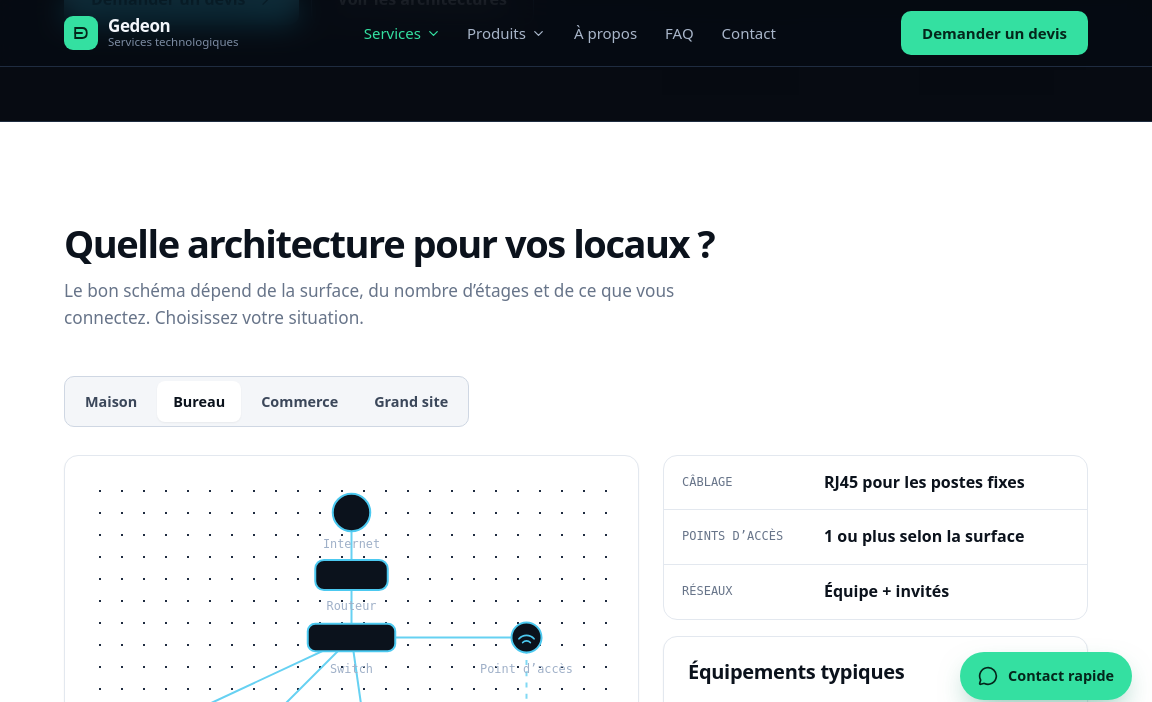
Test: dedicated service pages › network: switching the type of site updates the schema
(page scrolled)
Click the button "Commerce" at (300, 401), box left=245, top=381, right=354, bottom=422
(page scrolled)
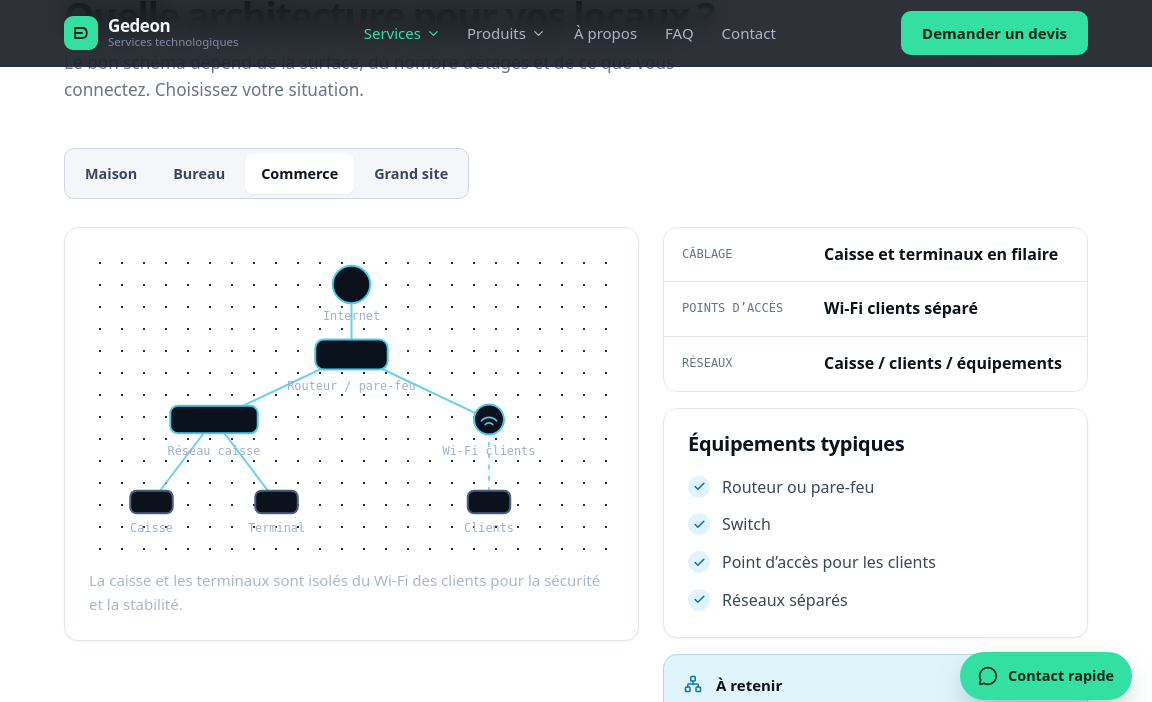
Expected: the picture named "Schéma réseau : Commerce" is shown, left=89, top=252, right=614, bottom=552
